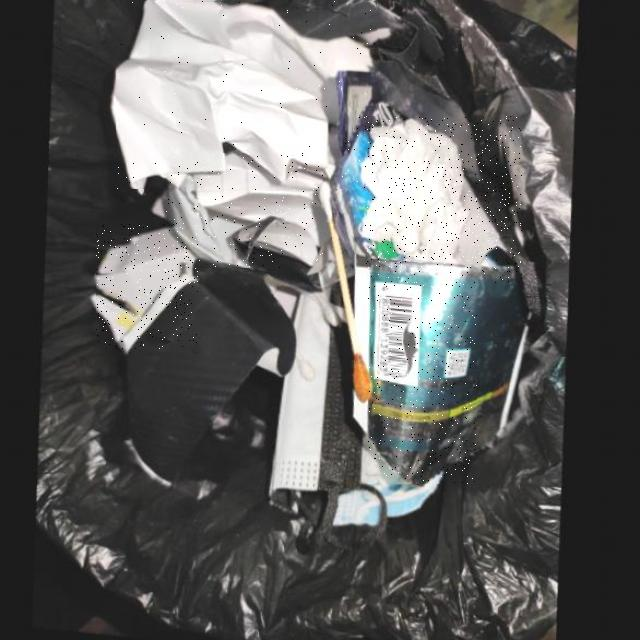paper: (117, 1, 377, 188), (365, 116, 522, 283), (165, 153, 323, 268), (96, 224, 198, 348)
plastic: (368, 269, 477, 483)
